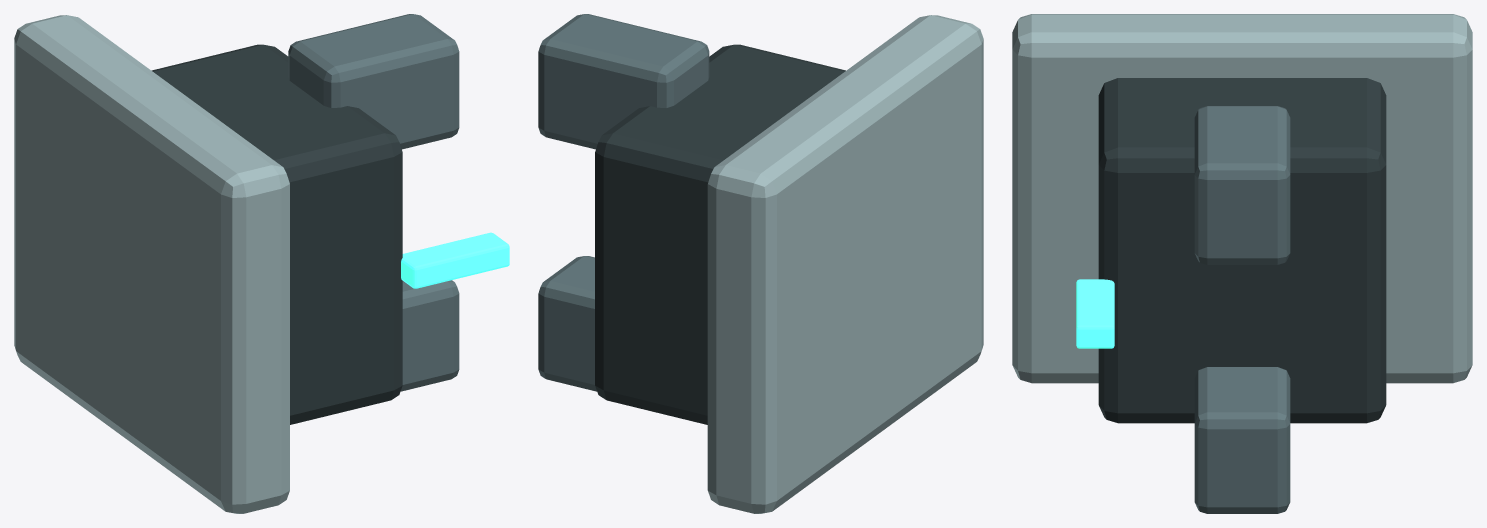
File: tool.glb
3 views of the same model, side by side, from view 1: azimuth 30°, elevation 25°; view 2: azimuth 150°, elevation 25°; view 3: azimuth 270°, elevation 25° (orthographic). The views are drawn at different scales.
Parts seen in each view (by area): view 1: wrist, palm, finger_left, finger_right, grip_light; view 2: wrist, palm, finger_left, finger_right; view 3: wrist, palm, finger_left, finger_right, grip_light.
Part boxes in pixels (x1,y1,x2,y2): wrist: (14,15,289,513); palm: (151,44,402,424); finger_left: (288,14,459,149); finger_right: (400,280,459,391); grip_light: (401,232,509,288); wrist: (707,15,983,513); palm: (595,44,845,424); finger_left: (538,14,709,149); finger_right: (538,256,596,391); wrist: (1012,14,1472,383); palm: (1098,78,1386,423); finger_left: (1194,106,1290,264); finger_right: (1194,367,1290,513); grip_light: (1076,279,1114,348).
Bounding box in the file's own units: 0.12 × 0.121 × 0.144.
